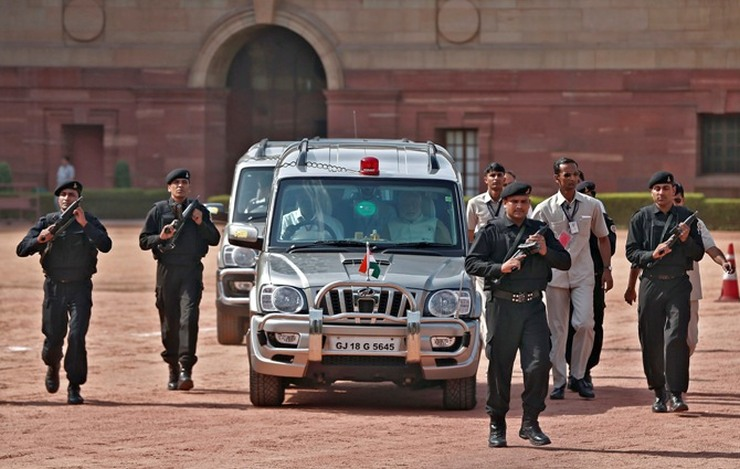number_plate: (329, 327, 404, 361)
